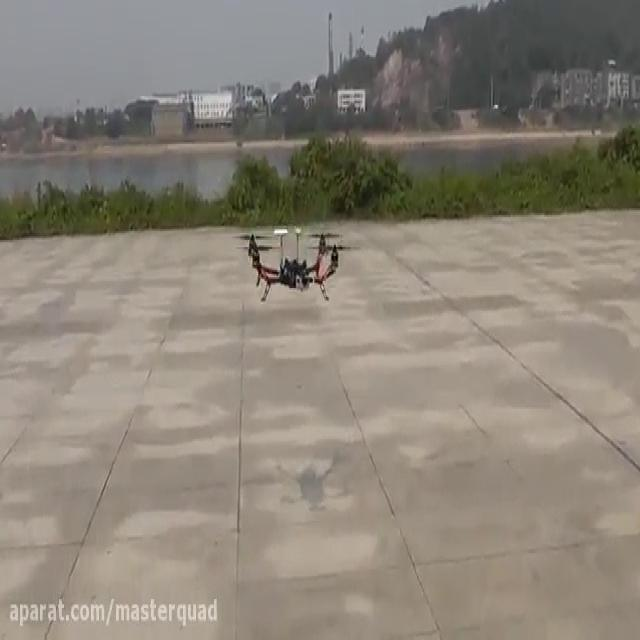drone: (233, 220, 358, 306)
